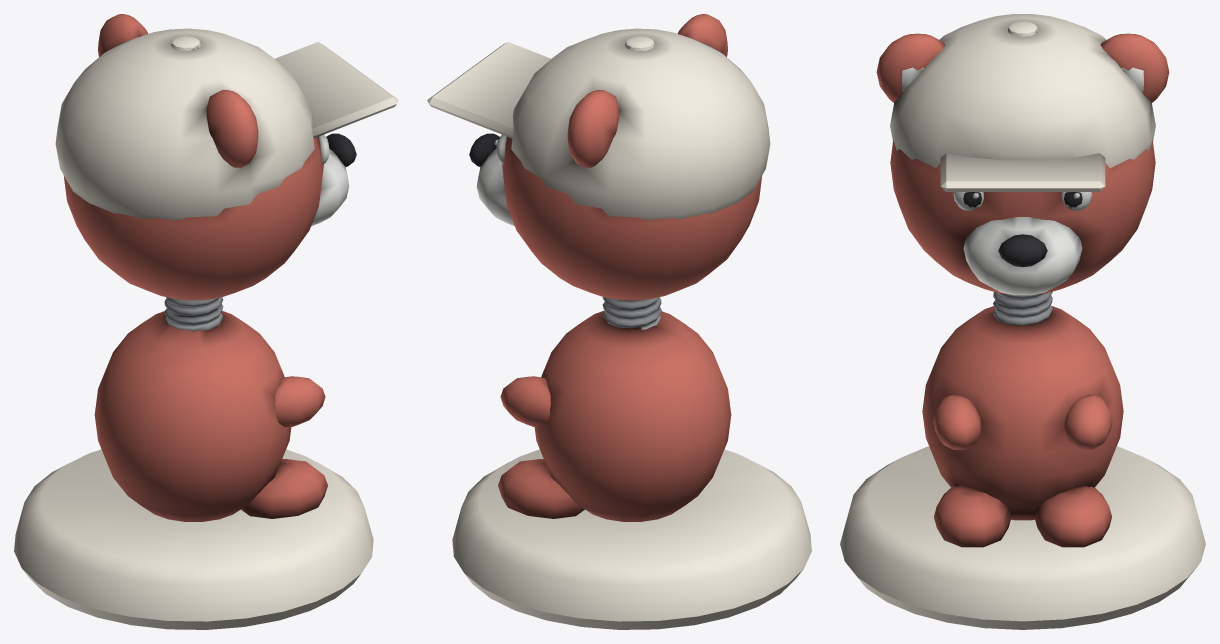
The model's file is nd_bobble_3.glb.
3 views of the same model, side by side, from view 1: azimuth 30°, elevation 25°; view 2: azimuth 150°, elevation 25°; view 3: azimuth 270°, elevation 25° (orthographic).
Visible parts, largest first — view 1: PART, N_head; view 2: PART, N_head; view 3: PART, N_head.
Boxes of the visible parts, x1,y1,x2,y2 form: PART: [14, 297, 373, 629]; N_head: [55, 14, 398, 300]; PART: [452, 297, 811, 629]; N_head: [427, 14, 770, 300]; PART: [840, 291, 1205, 629]; N_head: [876, 14, 1169, 295].
Size of the model in its own units: 0.0829 by 0.1271 by 0.08.
